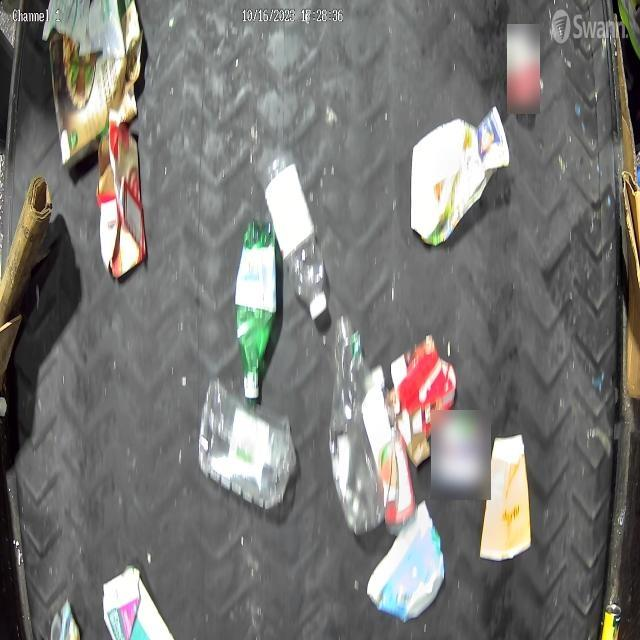plastic_bottle: (258, 150, 329, 321), (238, 221, 280, 410)
